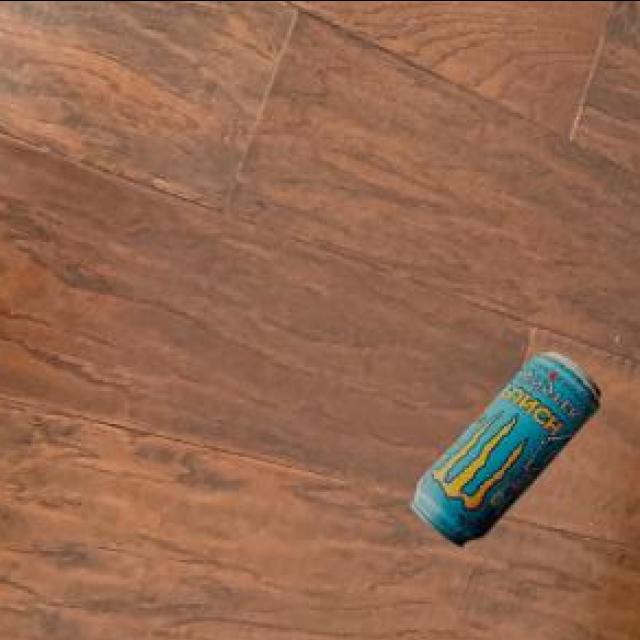logam: (413, 354, 604, 549)
